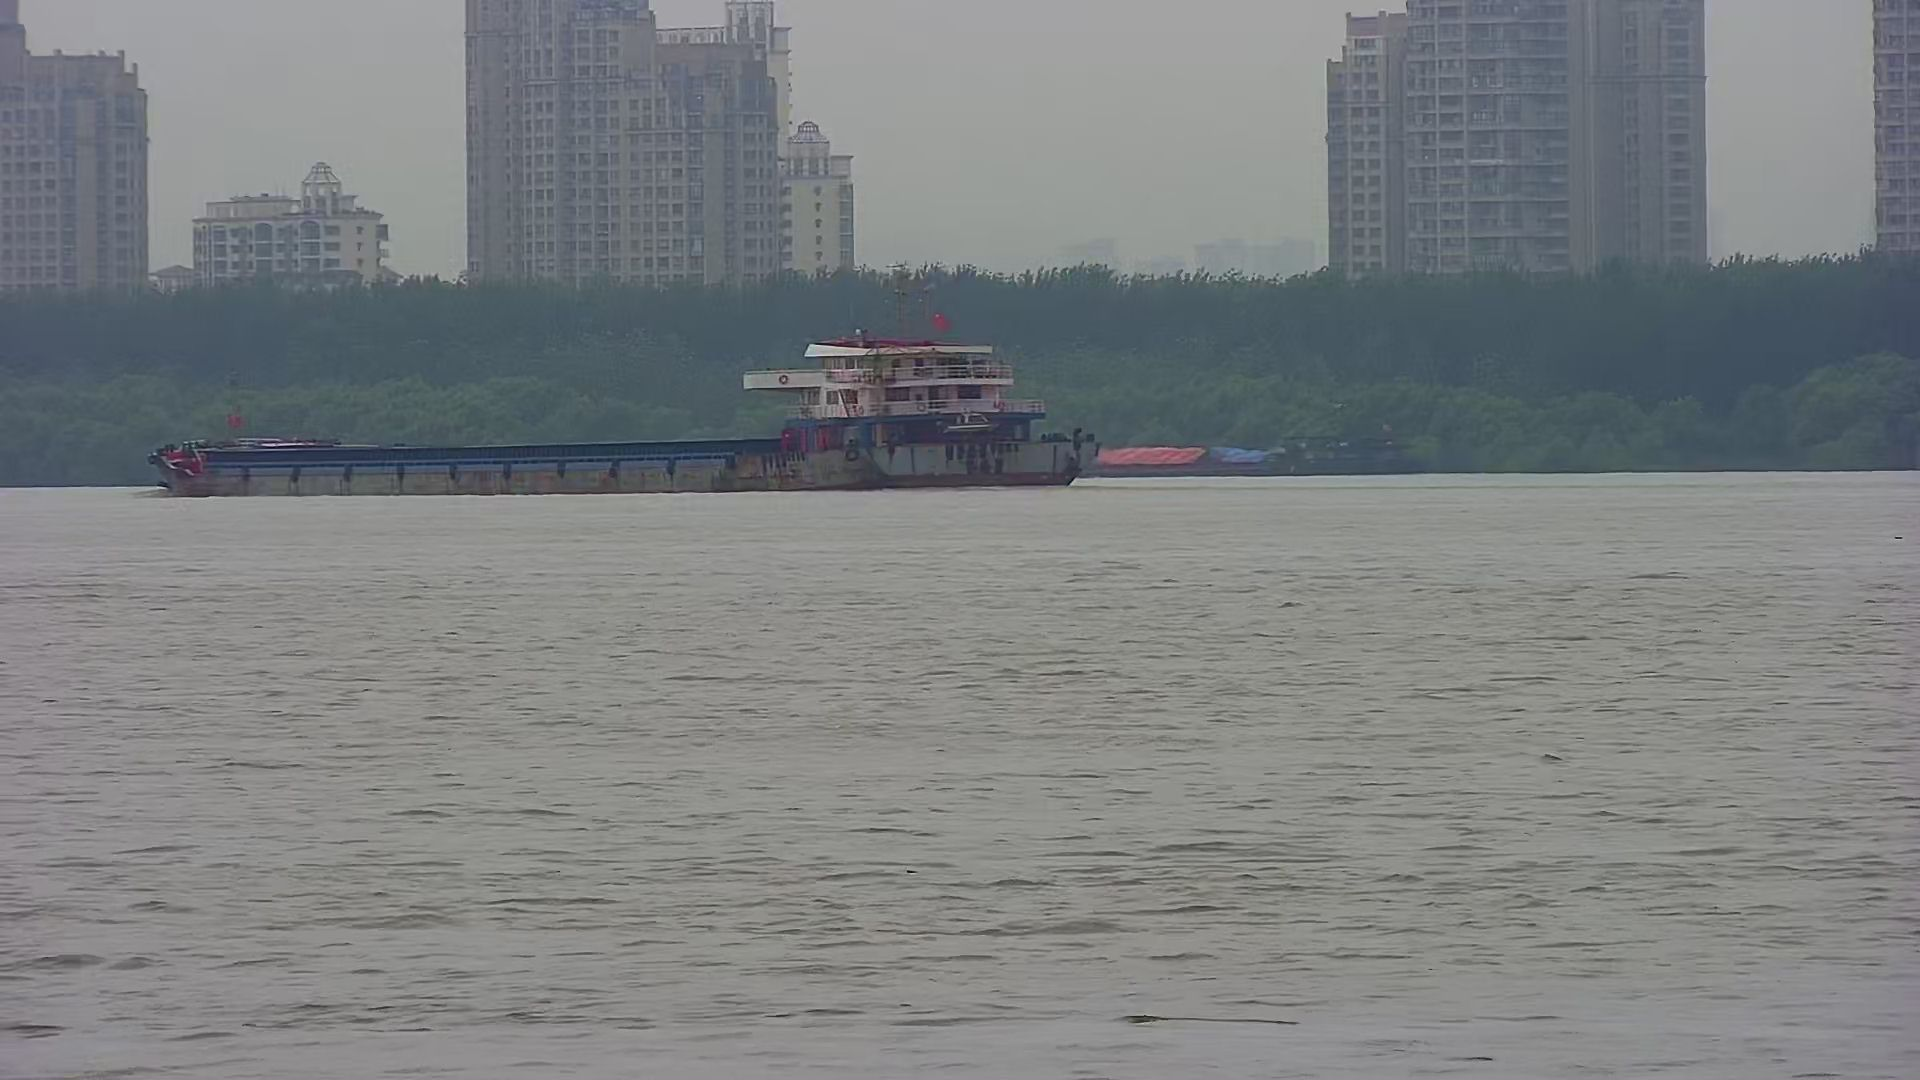ship: (154, 320, 1100, 495), (1095, 427, 1432, 477)
